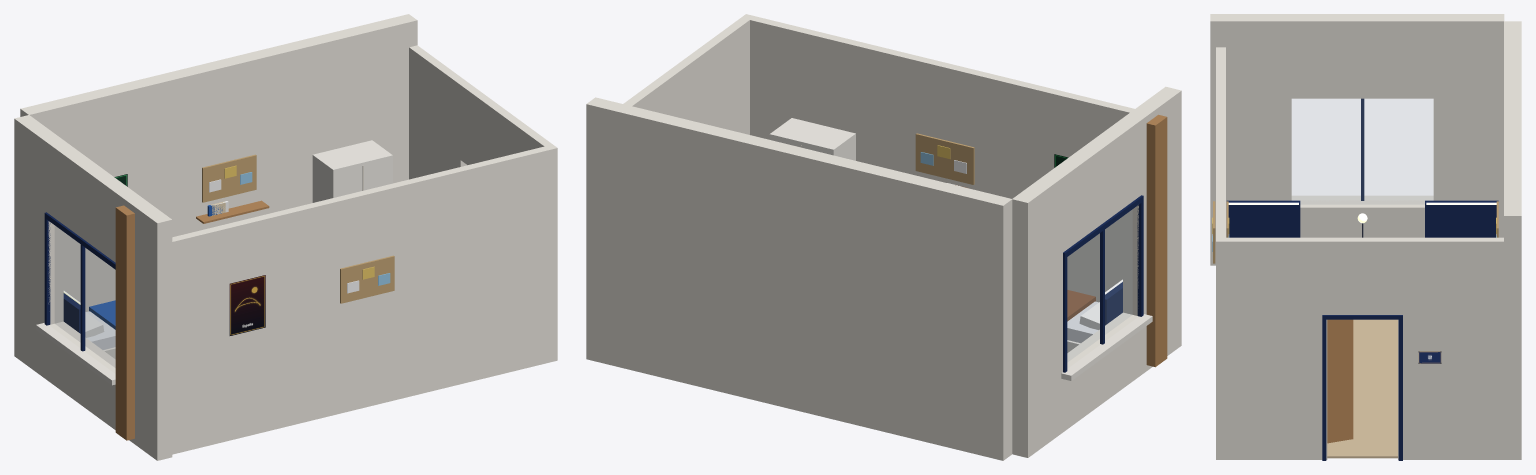
The model's file is habitacion.glb.
3 renders of one model, left to right at view 1: azimuth 30°, elevation 25°; view 2: azimuth 150°, elevation 25°; view 3: azimuth 270°, elevation 25°, orthographic. The views are drawn at different scales.
Visible parts, largest first — view 1: mate-f4f0e8, vidrio-cfe0ea, brillo-b98a5a, brillo-f7f4ee, mate-c9a978, MeshStandardMaterial-tex, metal-14285a, mate-ffffff, mate-2a62b8; view 2: mate-f4f0e8, vidrio-cfe0ea, brillo-b98a5a, brillo-f7f4ee, metal-14285a, mate-c9a978, mate-f2f5fa; view 3: mate-f4f0e8, vidrio-cfe0ea, mate-dcc7a6, brillo-14285a, brillo-b98a5a, metal-14285a, brillo-f7f4ee, luz-dcc39c, mate-c9a978.
Part boxes in pixels (x1,y1,x2,y2): mate-f4f0e8: (14, 14, 557, 460); vidrio-cfe0ea: (55, 226, 114, 366); brillo-b98a5a: (115, 200, 269, 440); brillo-f7f4ee: (36, 140, 392, 385); mate-c9a978: (202, 154, 394, 303); MeshStandardMaterial-tex: (229, 275, 265, 335); metal-14285a: (44, 212, 115, 351); mate-ffffff: (85, 179, 359, 337); mate-2a62b8: (89, 205, 222, 329); mate-f4f0e8: (586, 14, 1181, 460); vidrio-cfe0ea: (1068, 210, 1131, 361); brillo-b98a5a: (1146, 114, 1167, 367); brillo-f7f4ee: (769, 118, 1152, 380); metal-14285a: (1063, 195, 1143, 372); mate-c9a978: (915, 133, 974, 184); mate-f2f5fa: (1067, 301, 1098, 343); mate-f4f0e8: (1210, 14, 1521, 459); vidrio-cfe0ea: (1292, 99, 1432, 203); mate-dcc7a6: (1327, 319, 1397, 458); brillo-14285a: (1227, 200, 1498, 237); brillo-b98a5a: (1327, 319, 1353, 443); metal-14285a: (1322, 98, 1402, 460); brillo-f7f4ee: (1291, 195, 1433, 201); luz-dcc39c: (1228, 202, 1496, 204); mate-c9a978: (1213, 201, 1498, 263).
Bounding box in the file's own units: 6.93 × 3.8 × 4.39.
30 materials, 4 textured.
